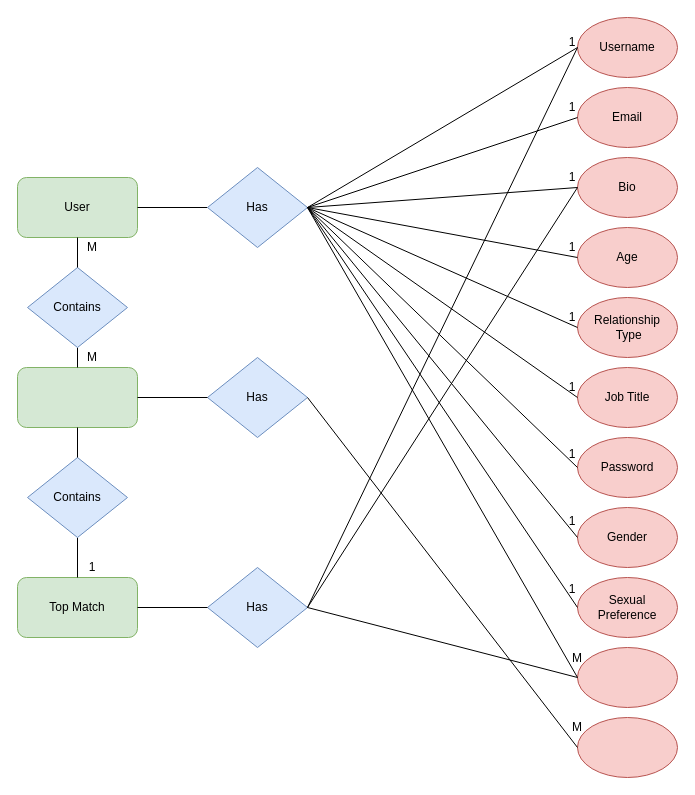
The diagram is 695 pixels wide and 795 high, and some of its shapes have lost their labels. Here are the shapes that lost their labels. From the top down, the box of each, then its label:
(16, 366, 138, 428): User Database
(576, 646, 678, 708): Social Media
(576, 716, 678, 778): Question Info
